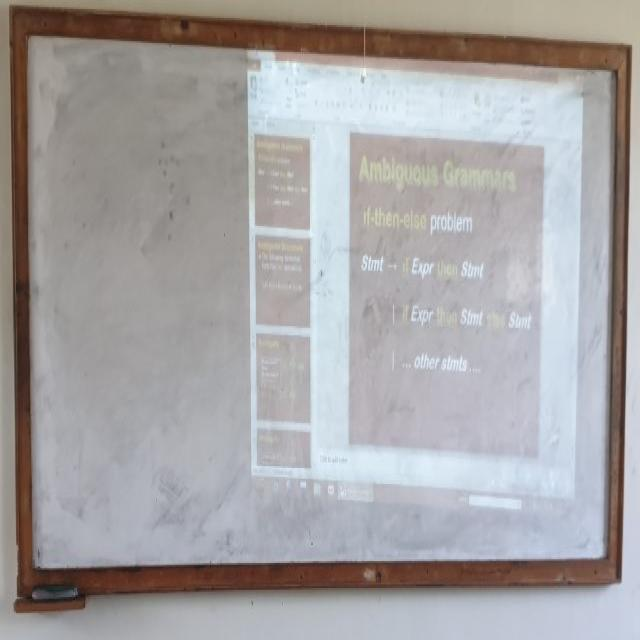Slide: (247, 39, 581, 520)
White-board: (17, 17, 621, 584)
